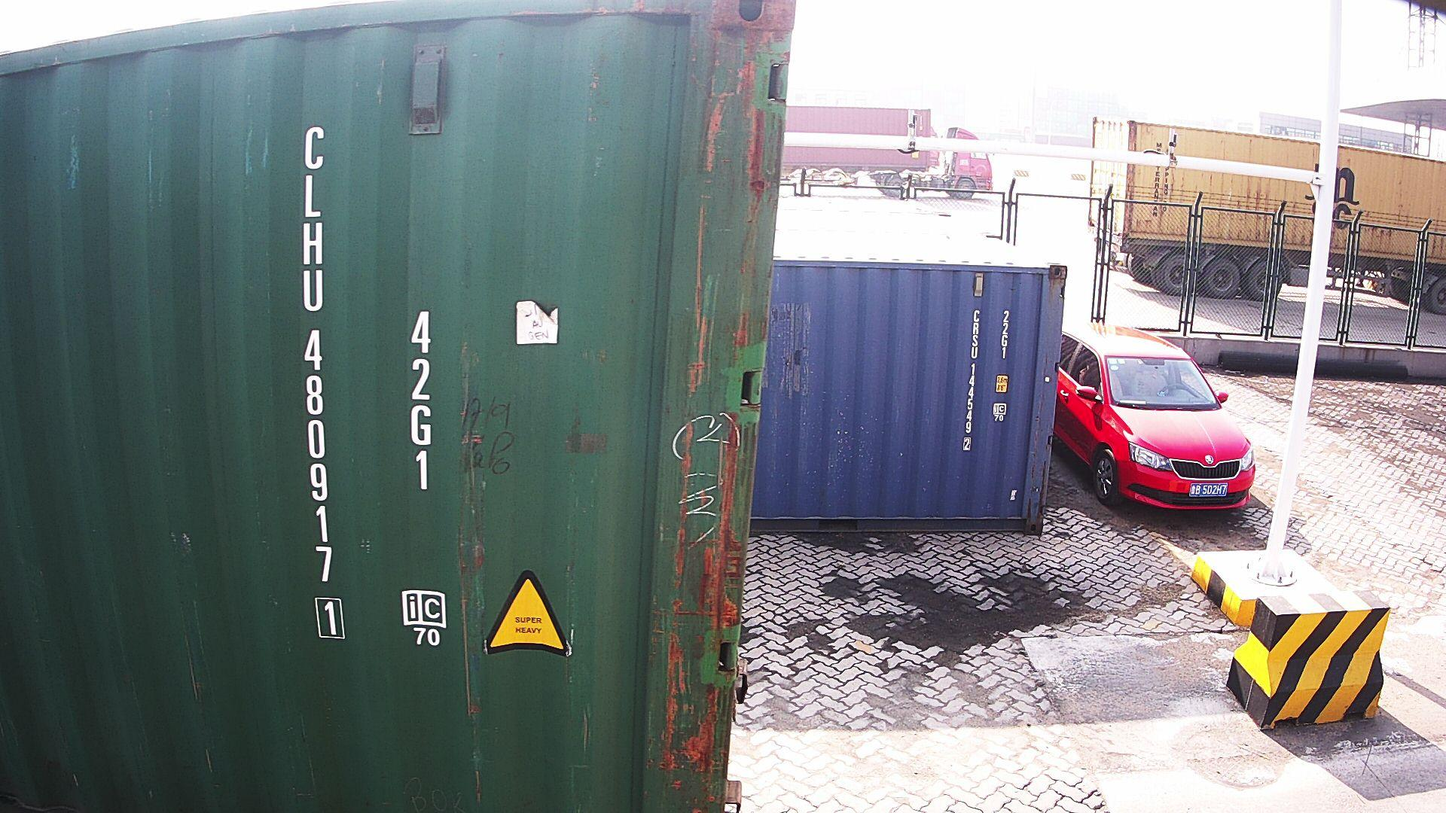container-numbers: (293, 121, 349, 644), (403, 305, 441, 497), (959, 296, 980, 455), (1000, 309, 1013, 358)
